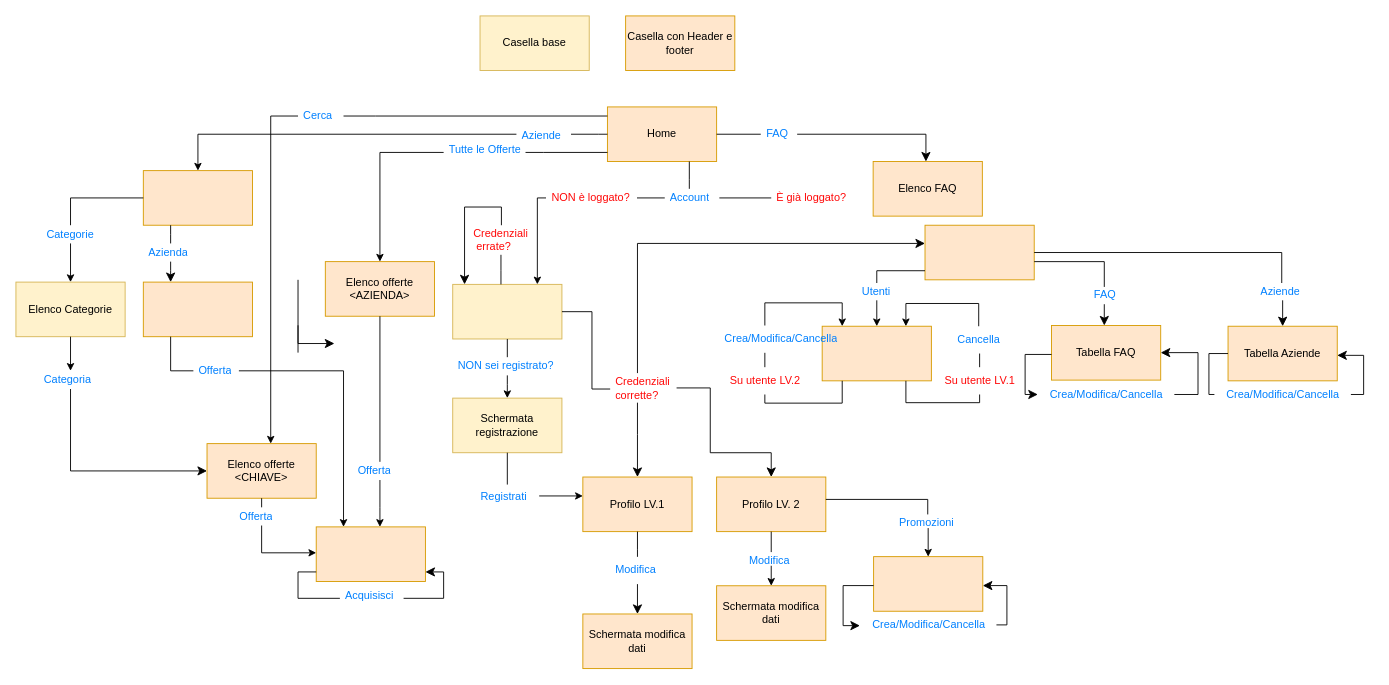
Image size: 1389x685. Some labels were removed from this diagram. Here are the shapes that lost their labels. From the top down, the box of each, then its label:
(142, 170, 253, 225): Lista aziende
(924, 224, 1034, 280): Profilo LV. 3
(142, 281, 253, 337): Pagina azienda (con lista offerte)
(452, 283, 562, 339): Schermata LogIn
(821, 325, 931, 381): Tabella Utenti
(315, 526, 425, 581): Pagina Offerta (solo se profilo LV.1 può acquisire)
(873, 556, 983, 611): Tabella Offerte
